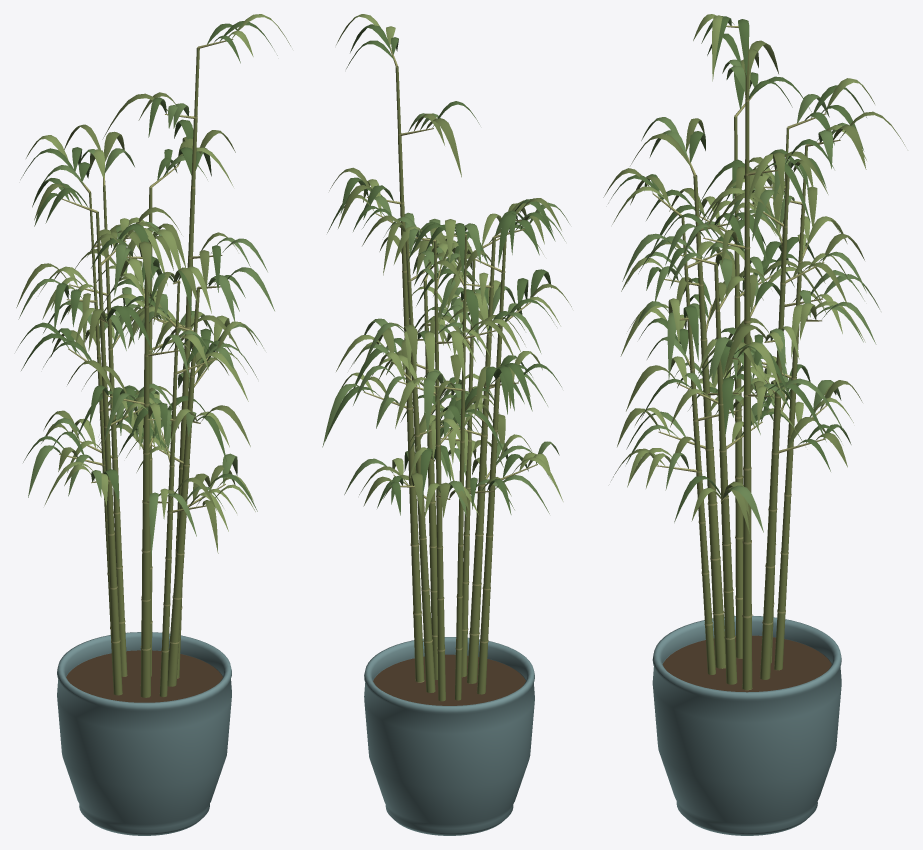
The model's file is bamboo.glb.
3 renders of one model, left to right at view 1: azimuth 30°, elevation 25°; view 2: azimuth 150°, elevation 25°; view 3: azimuth 270°, elevation 25°, orthographic. The views are drawn at different scales.
Visible parts, largest first — view 1: Bamboo; view 2: Bamboo; view 3: Bamboo.
Boxes of the visible parts, x1=… form: Bamboo: x1=16, y1=14, x2=290, y2=835; Bamboo: x1=322, y1=14, x2=571, y2=835; Bamboo: x1=603, y1=14, x2=905, y2=835.
Size of the model in its own units: 0.5785 by 1.75 by 0.5755.
